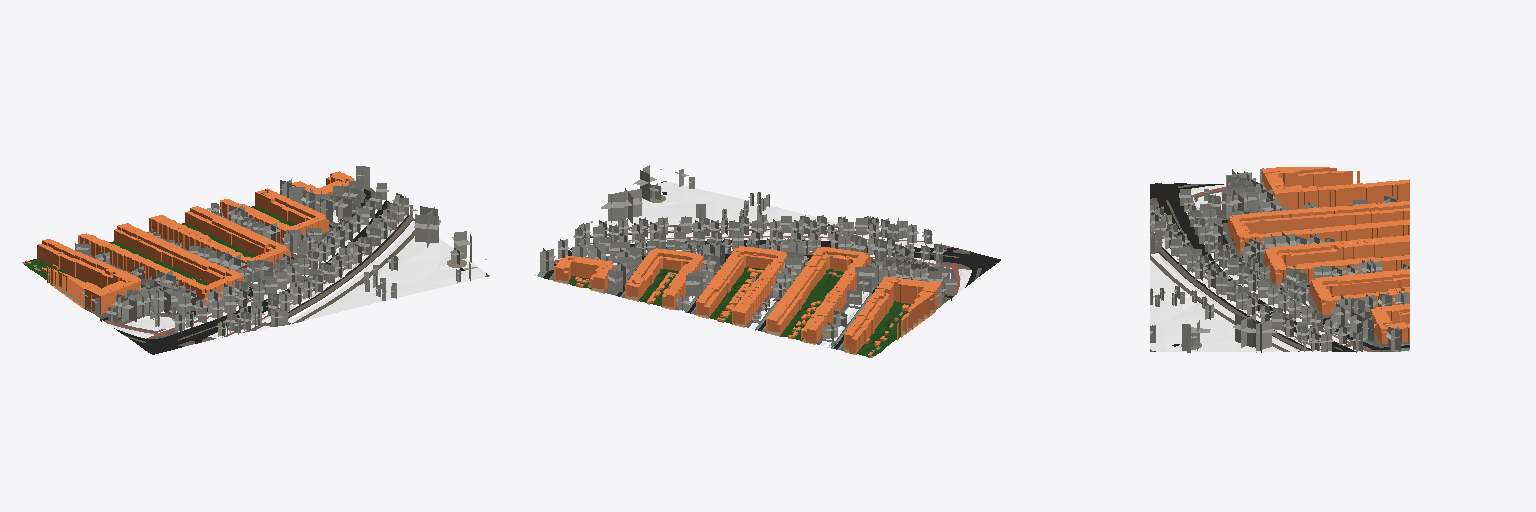
File: testDXFBinary.obj
3 views of the same model, side by side, from view 1: azimuth 30°, elevation 25°; view 2: azimuth 150°, elevation 25°; view 3: azimuth 270°, elevation 25° (orthographic).
Visible parts, largest first — view 1: Bomen, Begroeid, Voetpaden, Wegen, Erven; view 2: Bomen, Begroeid, Erven, Wegen, Voetpaden; view 3: Bomen, Begroeid, Wegen, Voetpaden.
Part boxes in pixels (left/top/right/bottom): Bomen: left=75, top=166, right=486, bottom=336; Begroeid: left=109, top=200, right=485, bottom=338; Voetpaden: left=85, top=187, right=489, bottom=351; Wegen: left=101, top=189, right=486, bottom=354; Erven: left=24, top=206, right=296, bottom=299; Bomen: left=540, top=165, right=956, bottom=340; Begroeid: left=534, top=182, right=971, bottom=347; Erven: left=568, top=267, right=910, bottom=356; Wegen: left=543, top=182, right=1000, bottom=349; Voetpaden: left=542, top=181, right=996, bottom=350; Bomen: left=1150, top=168, right=1409, bottom=352; Begroeid: left=1150, top=184, right=1409, bottom=351; Wegen: left=1150, top=183, right=1409, bottom=351; Voetpaden: left=1150, top=183, right=1409, bottom=351.
Bounding box in the file's own units: 300 × 24.43 × 200.